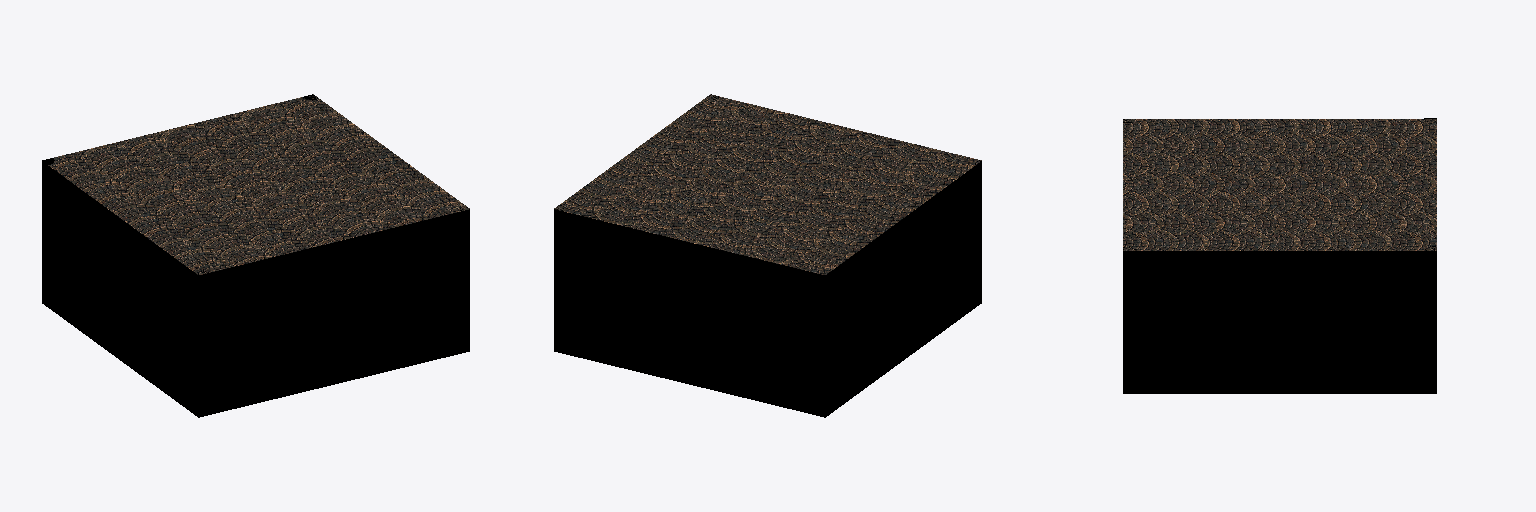
The picture shows the model from 3 angles: view 1: azimuth 30°, elevation 25°; view 2: azimuth 150°, elevation 25°; view 3: azimuth 270°, elevation 25°; orthographic projection.
Parts seen in each view (by area): view 1: pCube1; view 2: pCube1; view 3: pCube1.
Boxes of the visible parts, x1=… form: pCube1: x1=42, y1=94, x2=469, y2=417; pCube1: x1=554, y1=94, x2=981, y2=417; pCube1: x1=1123, y1=119, x2=1436, y2=393.
Bounding box in the file's own units: 48.01 × 24 × 48.
Materials: 5 (2 with a texture image).